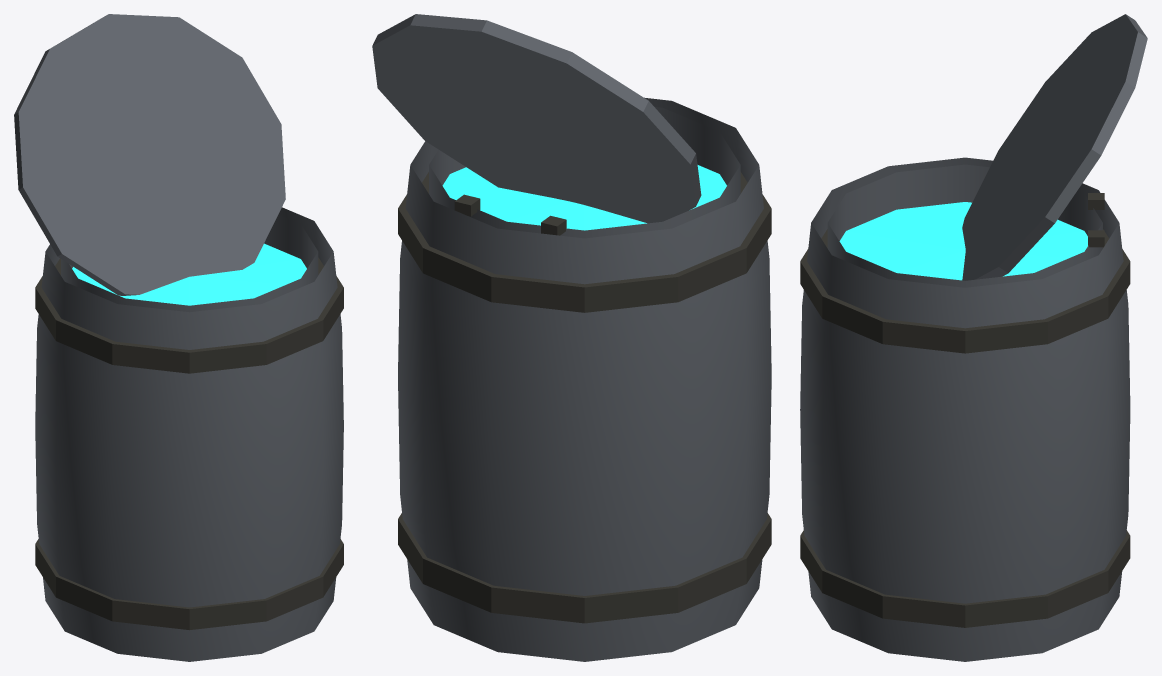
File: SM_Barrel_Dvergr_08_Open.glb
3 renders of one model, left to right at view 1: azimuth 30°, elevation 25°; view 2: azimuth 150°, elevation 25°; view 3: azimuth 270°, elevation 25°, orthographic. The views are drawn at different scales.
Visible parts, largest first — view 1: SM_Barrel_Dvergr_08_Open_Body, SM_Barrel_Dvergr_08_Open_HatchLid, SM_Barrel_Dvergr_08_Open_Collar65, SM_Barrel_Dvergr_08_Open_Collar10, SM_Barrel_Dvergr_08_Open_Coolant; view 2: SM_Barrel_Dvergr_08_Open_Body, SM_Barrel_Dvergr_08_Open_HatchLid, SM_Barrel_Dvergr_08_Open_Collar65, SM_Barrel_Dvergr_08_Open_Collar10, SM_Barrel_Dvergr_08_Open_Coolant; view 3: SM_Barrel_Dvergr_08_Open_Body, SM_Barrel_Dvergr_08_Open_HatchLid, SM_Barrel_Dvergr_08_Open_Coolant, SM_Barrel_Dvergr_08_Open_Collar65, SM_Barrel_Dvergr_08_Open_Collar10.
Part boxes in pixels (x1=…): SM_Barrel_Dvergr_08_Open_Body: x1=35, y1=207, x2=343, y2=661; SM_Barrel_Dvergr_08_Open_HatchLid: x1=14, y1=14, x2=285, y2=295; SM_Barrel_Dvergr_08_Open_Collar65: x1=35, y1=257, x2=343, y2=373; SM_Barrel_Dvergr_08_Open_Collar10: x1=35, y1=539, x2=343, y2=630; SM_Barrel_Dvergr_08_Open_Coolant: x1=72, y1=243, x2=306, y2=305; SM_Barrel_Dvergr_08_Open_Body: x1=398, y1=97, x2=771, y2=661; SM_Barrel_Dvergr_08_Open_HatchLid: x1=372, y1=14, x2=701, y2=223; SM_Barrel_Dvergr_08_Open_Collar65: x1=398, y1=172, x2=771, y2=312; SM_Barrel_Dvergr_08_Open_Collar10: x1=398, y1=513, x2=771, y2=623; SM_Barrel_Dvergr_08_Open_Coolant: x1=442, y1=165, x2=726, y2=230; SM_Barrel_Dvergr_08_Open_Body: x1=800, y1=157, x2=1130, y2=661; SM_Barrel_Dvergr_08_Open_HatchLid: x1=962, y1=14, x2=1147, y2=280; SM_Barrel_Dvergr_08_Open_Coolant: x1=839, y1=202, x2=1087, y2=280; SM_Barrel_Dvergr_08_Open_Collar65: x1=800, y1=229, x2=1130, y2=353; SM_Barrel_Dvergr_08_Open_Collar10: x1=800, y1=530, x2=1130, y2=627.
Bounding box in the file's own units: 0.6 × 1.13 × 0.6316.
